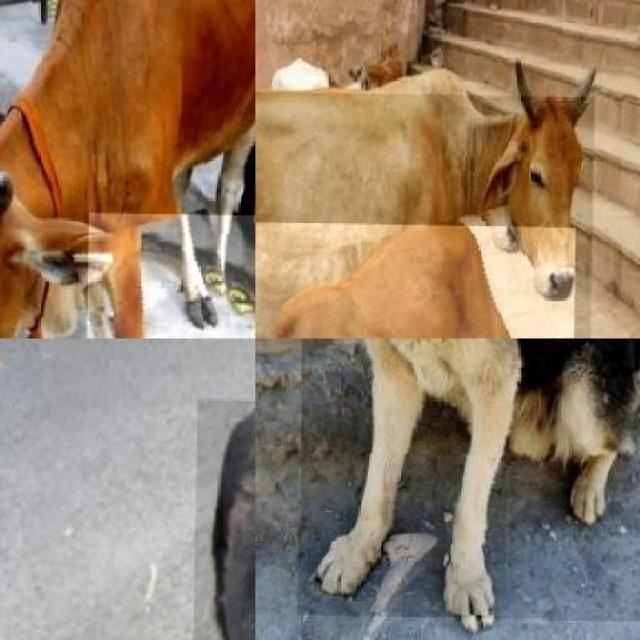cow: (0, 0, 255, 338), (255, 88, 594, 338), (255, 220, 574, 338)
dog: (295, 338, 640, 622), (187, 397, 256, 640)
injured: (83, 212, 255, 338)
